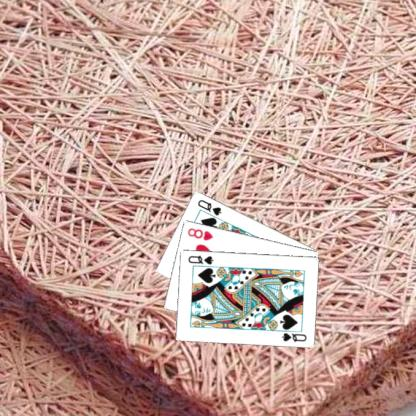8H: (187, 225, 216, 242)
QS: (197, 196, 224, 216), (187, 252, 217, 265), (281, 330, 309, 343)
